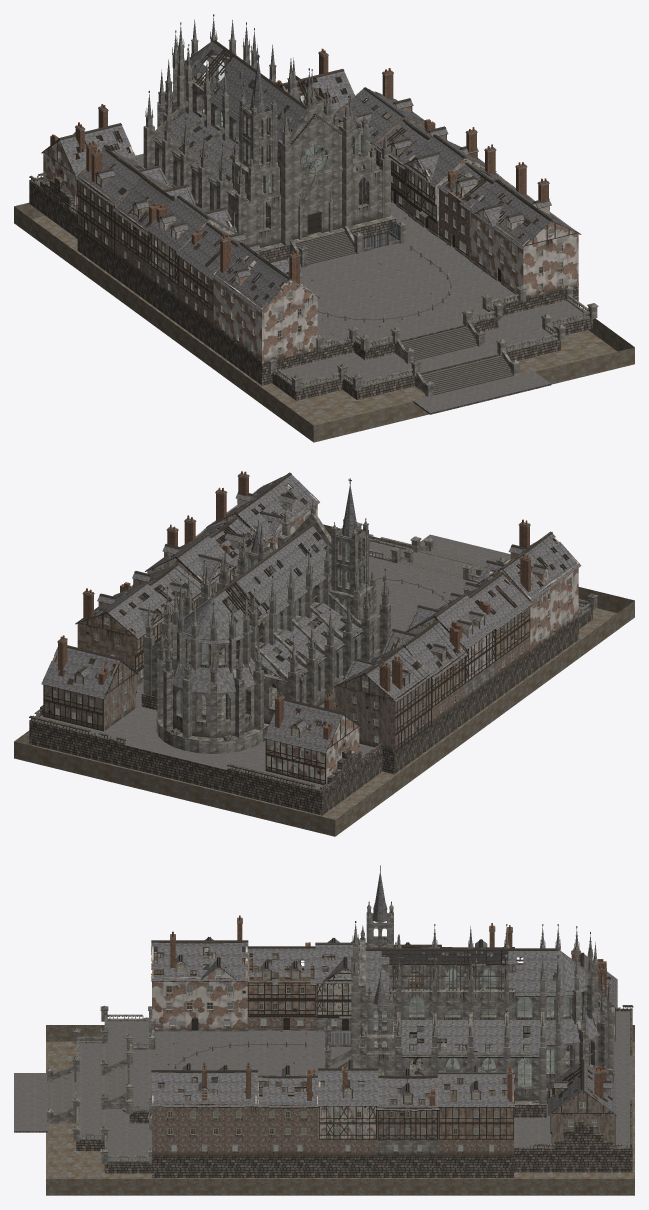
The model's file is building_opt.glb.
3 views of the same model, one above another, from view 1: azimuth 30°, elevation 25°; view 2: azimuth 150°, elevation 25°; view 3: azimuth 270°, elevation 25° (orthographic).
Visible parts, largest first — view 1: Plaza_cobble, Cathedral_stone, Base_soil, Plinth_rubble, Tracery_stone, House_W4_plaster_d, CathRoof_slate, Balustrade_stone, House_E4_brick, Chimneys_brick_red, Stairs_stair, Stairs_stair_riser (+39 smaller); view 2: Cathedral_stone, Base_soil, Plinth_rubble, CathRoof_slate, Plaza_cobble, Tracery_stone, House_W0_plaster_b, Chimneys_brick_red, House_NE_plaster_b, House_W4_plaster_d, Cathedral_stone_moss, WinFrame_wframe (+38 smaller); view 3: Plaza_cobble, Cathedral_stone, Base_soil, Plinth_rubble, CathRoof_slate, Tracery_stone, House_E4_brick, House_W4_plaster_d, Balustrade_stone, Glass_glass, Cathedral_stone_moss, House_E4_slate (+39 smaller).
Boxes of the visible parts, <box> form: Plaza_cobble: <box>32,153,586,386</box>; Cathedral_stone: <box>143,53,390,247</box>; Base_soil: <box>14,202,634,442</box>; Plinth_rubble: <box>29,174,592,400</box>; Tracery_stone: <box>145,17,389,239</box>; House_W4_plaster_d: <box>213,253,317,363</box>; CathRoof_slate: <box>153,40,356,186</box>; Balustrade_stone: <box>268,221,598,397</box>; House_E4_brick: <box>469,195,578,298</box>; Chimneys_brick_red: <box>50,48,548,296</box>; Stairs_stair: <box>295,232,512,394</box>; Stairs_stair_riser: <box>296,233,513,394</box>; Cathedral_stone: <box>143,513,390,753</box>; Base_soil: <box>14,524,634,836</box>; Plinth_rubble: <box>29,609,592,815</box>; CathRoof_slate: <box>152,485,362,693</box>; Plaza_cobble: <box>35,541,586,789</box>; Tracery_stone: <box>145,499,389,720</box>; House_W0_plaster_b: <box>336,653,431,751</box>; Chimneys_brick_red: <box>58,471,530,739</box>; House_NE_plaster_b: <box>43,655,136,730</box>; House_W4_plaster_d: <box>477,537,578,651</box>; Cathedral_stone_moss: <box>142,530,390,741</box>; WinFrame_wframe: <box>53,483,571,777</box>; Plaza_cobble: <box>76,1011,632,1159</box>; Cathedral_stone: <box>351,909,614,1104</box>; Base_soil: <box>46,1025,634,1195</box>; Plinth_rubble: <box>76,1006,633,1177</box>; CathRoof_slate: <box>359,871,607,1057</box>; Tracery_stone: <box>352,903,611,1089</box>; House_E4_brick: <box>152,1078,256,1155</box>; House_W4_plaster_d: <box>152,946,247,1029</box>; Balustrade_stone: <box>46,1005,351,1163</box>; Glass_glass: <box>167,945,595,1150</box>; Cathedral_stone_moss: <box>351,912,614,1104</box>; House_E4_slate: <box>151,1063,257,1107</box>.
Size of the model in its own units: 63.61 by 44.55 by 108.
Materials: 27 (27 with a texture image).
